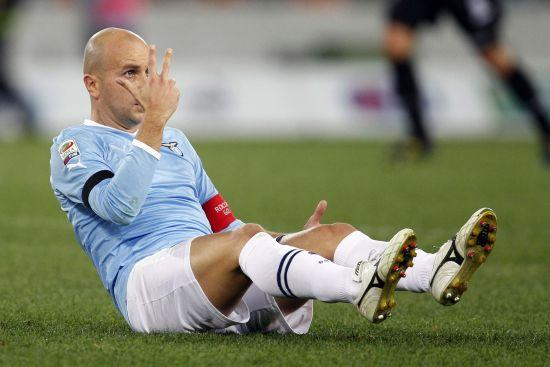bending: (43, 22, 504, 345)
